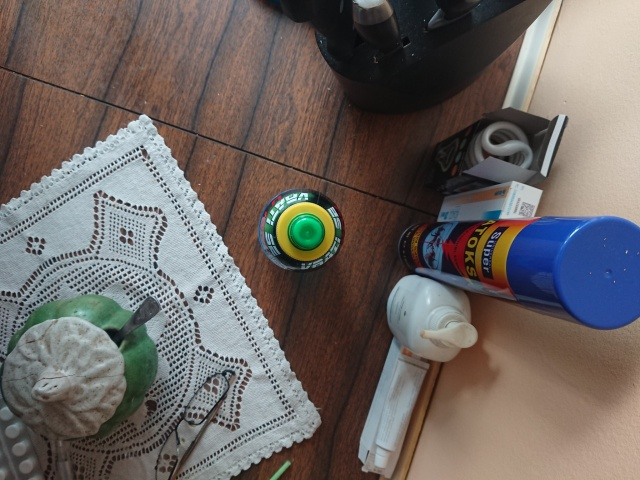Vindi Iso Sport Forest Strawberries 500mL: (256, 186, 346, 272)
